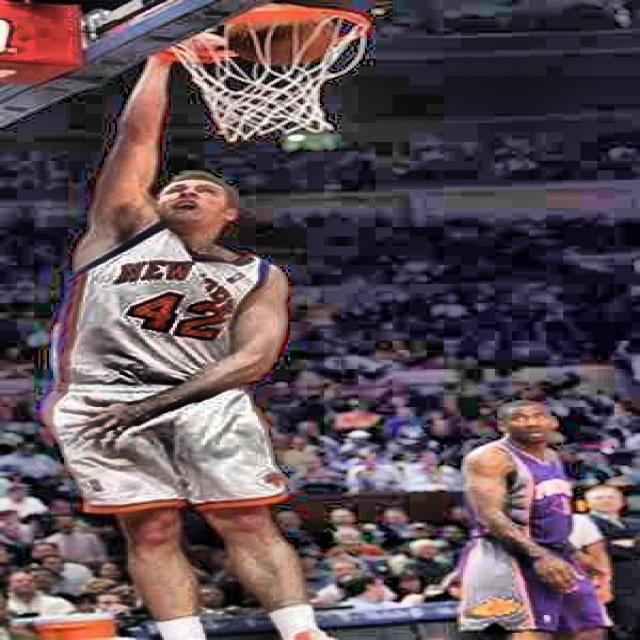rim: (173, 7, 375, 140)
